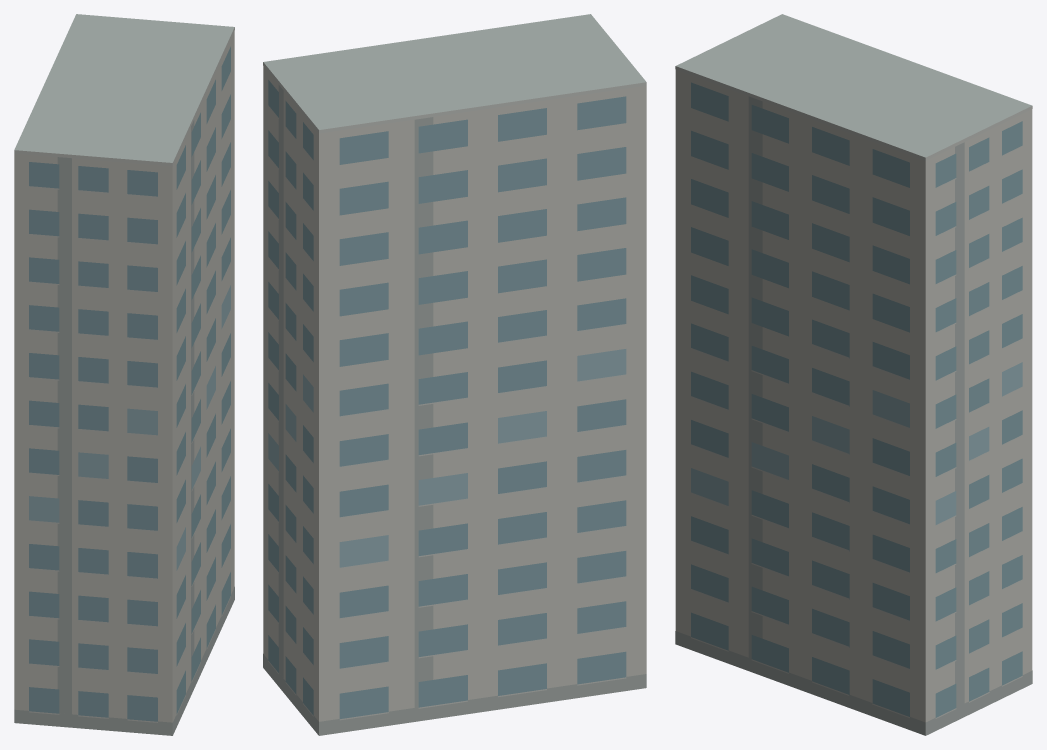
The model's file is residential-459b43bd-f04d-41ee-946d-77088fd2b9c4.glb.
3 views of the same model, side by side, from view 1: azimuth 30°, elevation 25°; view 2: azimuth 150°, elevation 25°; view 3: azimuth 270°, elevation 25° (orthographic). The views are drawn at different scales.
Visible parts, largest first — view 1: residential-459b43bd-f04d-41ee-946d-77088fd2b9c4.tmp; view 2: residential-459b43bd-f04d-41ee-946d-77088fd2b9c4.tmp; view 3: residential-459b43bd-f04d-41ee-946d-77088fd2b9c4.tmp.
Boxes of the visible parts, x1,y1,x2,y2 form: residential-459b43bd-f04d-41ee-946d-77088fd2b9c4.tmp: (14,14,234,735); residential-459b43bd-f04d-41ee-946d-77088fd2b9c4.tmp: (263,14,646,735); residential-459b43bd-f04d-41ee-946d-77088fd2b9c4.tmp: (675,14,1032,735).
Size of the model in its own units: 21.85 by 41 by 22.94.
